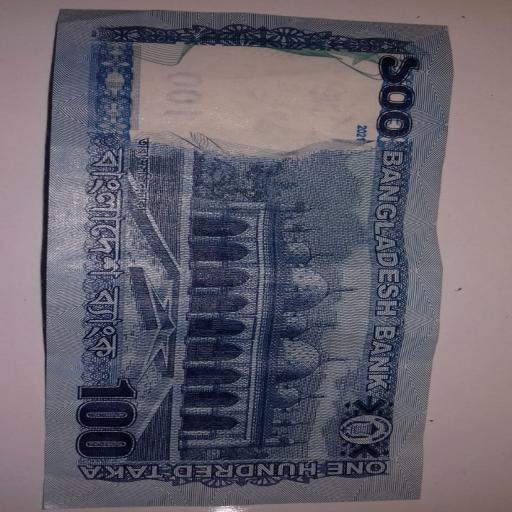100taka: (50, 6, 446, 510)
